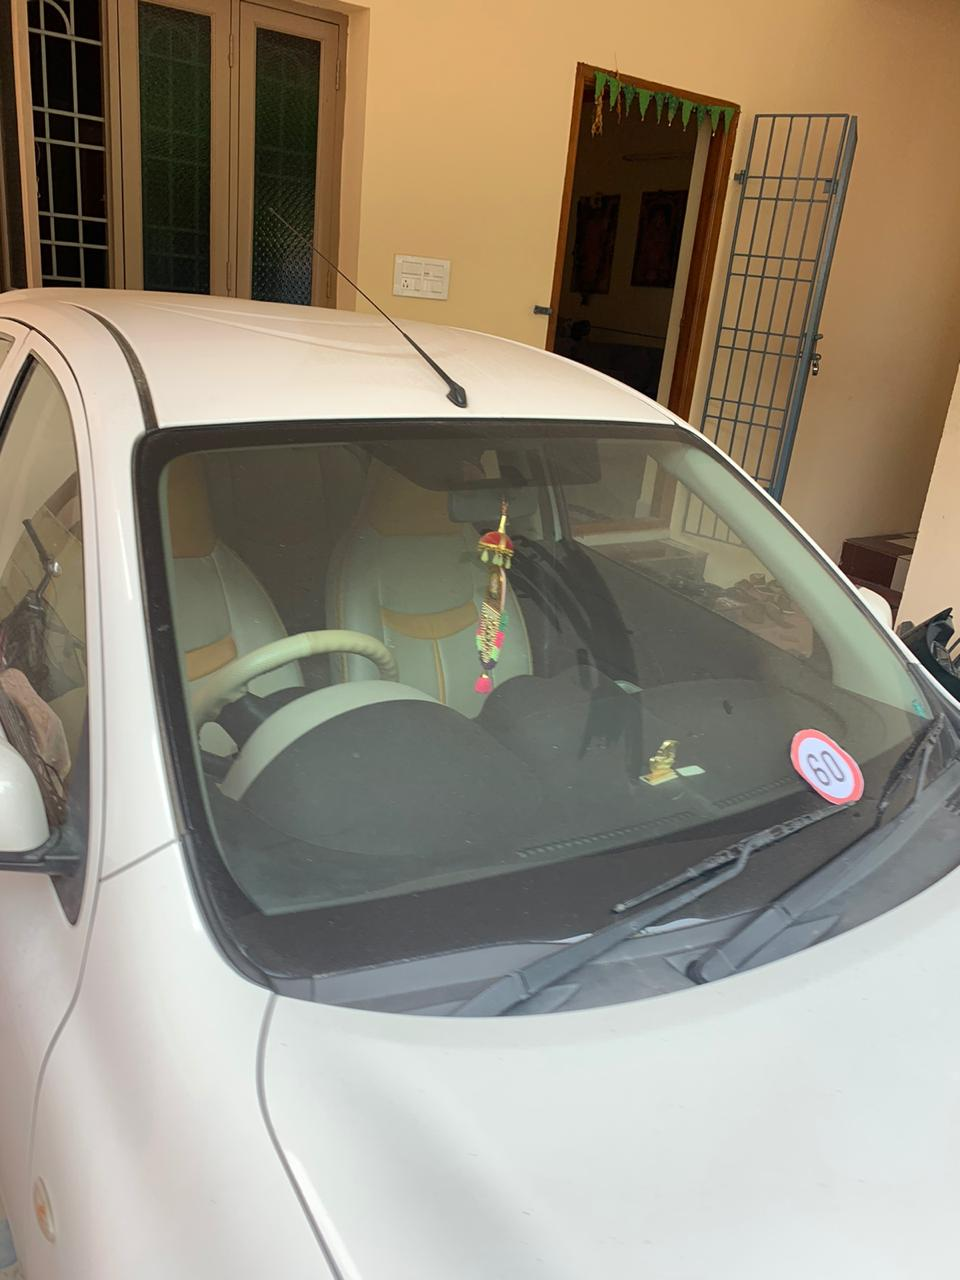SPEED LIMIT (60 KM/H): (788, 715, 898, 814)
